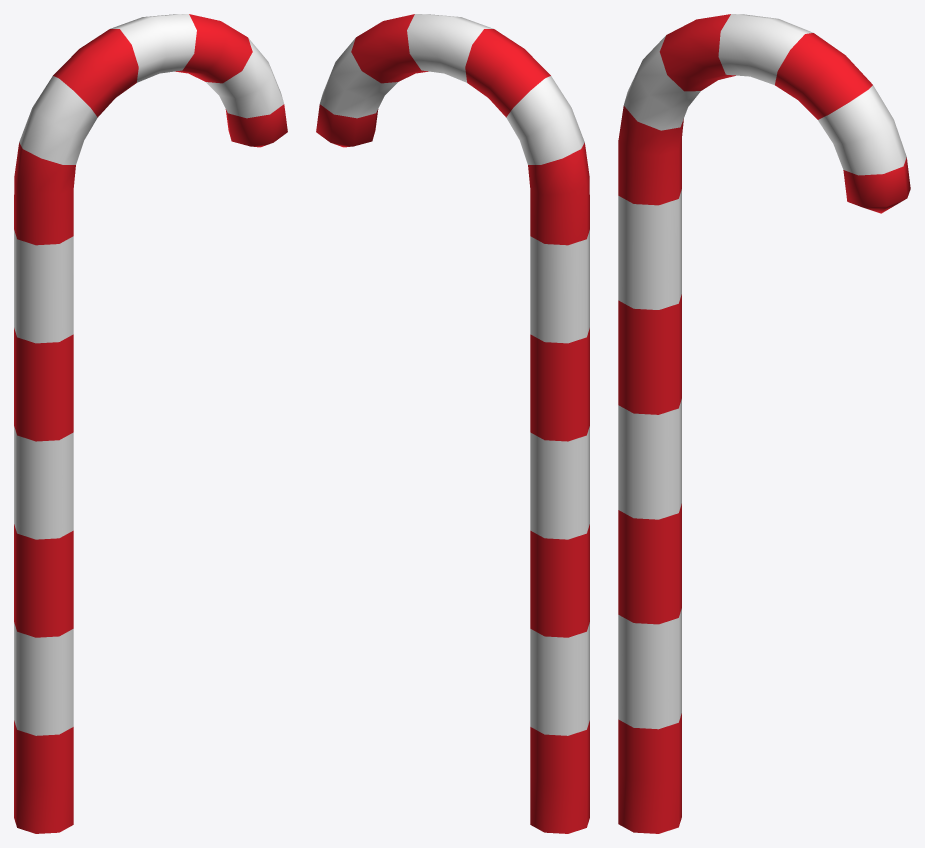
File: baston.obj
3 views of the same model, side by side, from view 1: azimuth 30°, elevation 25°; view 2: azimuth 150°, elevation 25°; view 3: azimuth 330°, elevation 25° (orthographic). The views are drawn at different scales.
Parts seen in each view (by area): view 1: Baston_Caramelo; view 2: Baston_Caramelo; view 3: Baston_Caramelo.
Boxes of the visible parts, x1,y1,x2,y2 form: Baston_Caramelo: (14, 14, 287, 833); Baston_Caramelo: (316, 14, 589, 833); Baston_Caramelo: (618, 14, 910, 833).
Bounding box in the file's own units: 0.7993 × 2.22 × 0.16.
